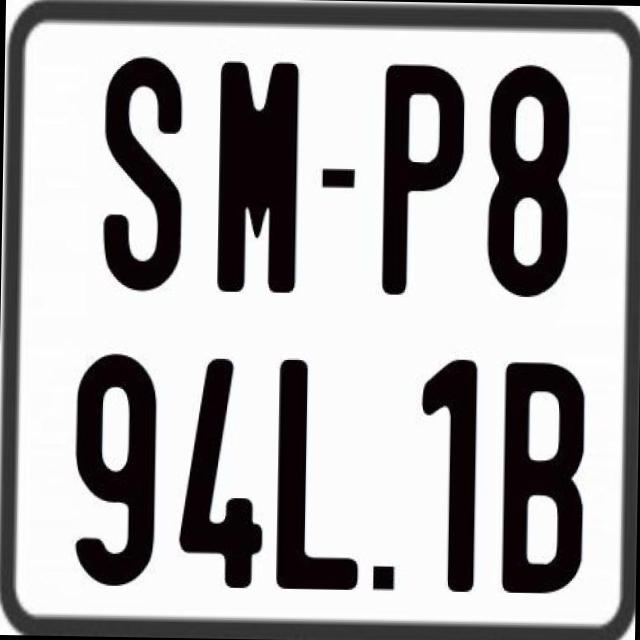1: (418, 358, 478, 602)
4: (176, 353, 268, 591)
8: (482, 62, 566, 295)
9: (70, 350, 160, 592)
B: (502, 362, 589, 596)
L: (276, 354, 366, 588)
M: (213, 58, 300, 292)
P: (379, 62, 463, 300)
S: (99, 51, 187, 289)
